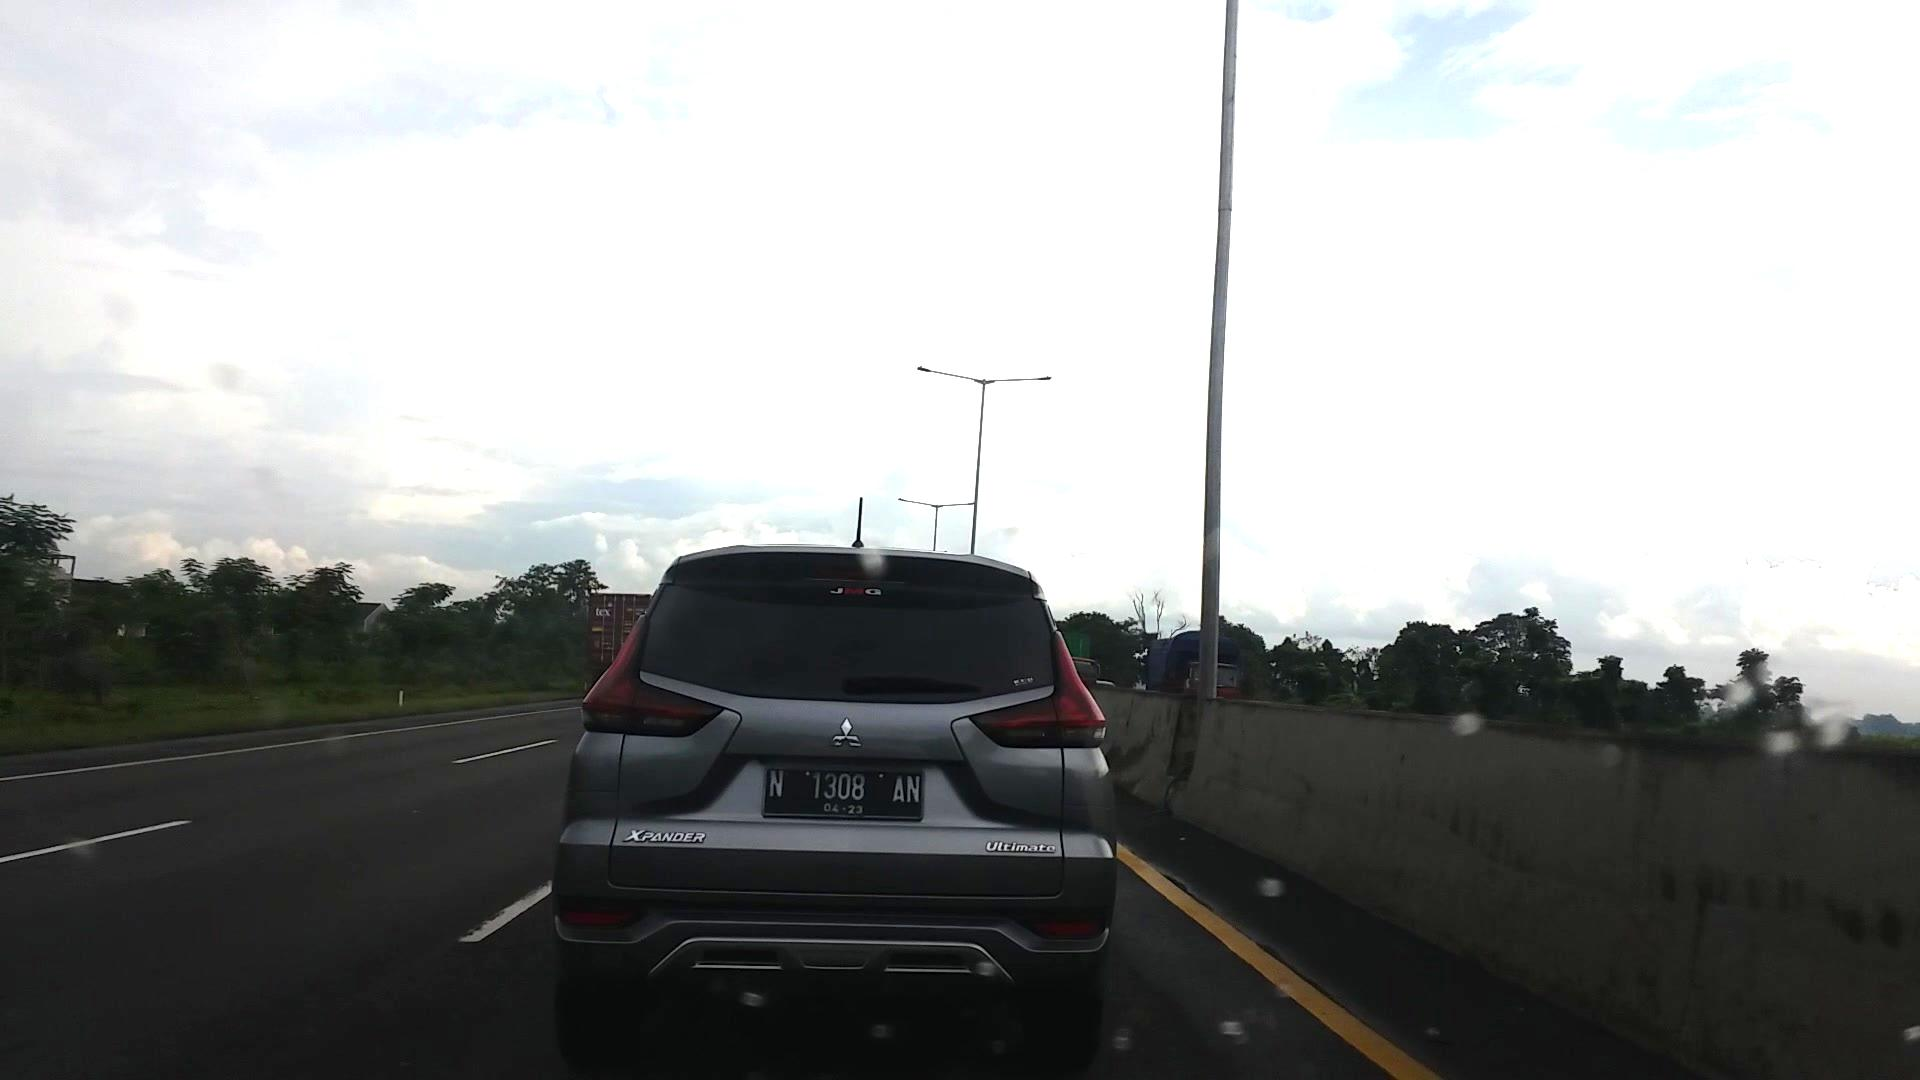plate_positive: (762, 766, 923, 820)
